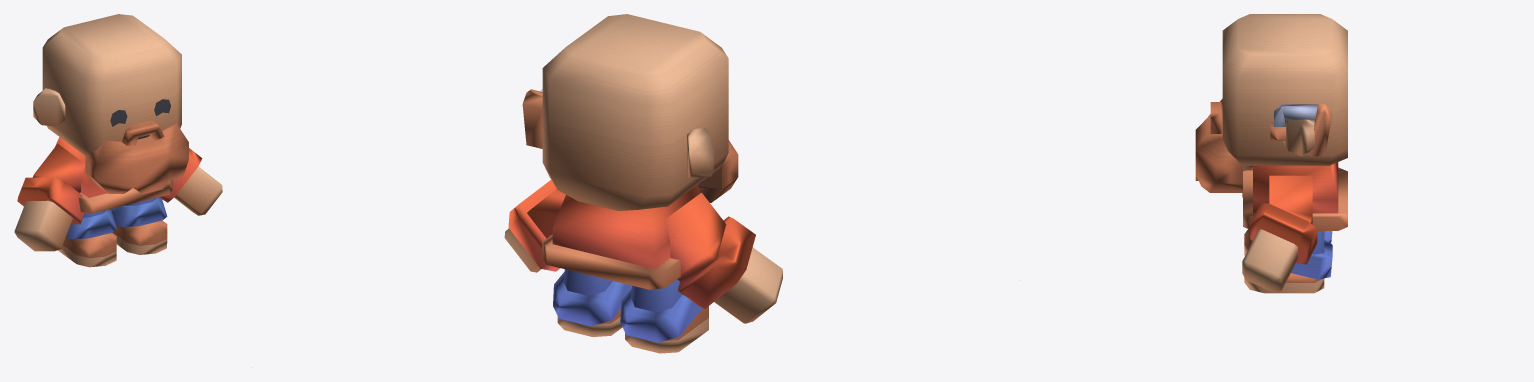
Rendered from rival_sprint_0.glb.
3 renders of one model, left to right at view 1: azimuth 30°, elevation 25°; view 2: azimuth 150°, elevation 25°; view 3: azimuth 270°, elevation 25°, orthographic. The views are drawn at different scales.
Visible parts, largest first — view 1: rival-sprint-0; view 2: rival-sprint-0; view 3: rival-sprint-0.
Part boxes in pixels (x1,y1,x2,y2): rival-sprint-0: (14, 14, 222, 267); rival-sprint-0: (504, 14, 782, 353); rival-sprint-0: (1195, 14, 1347, 293).
Bounding box in the file's own units: 1.2 × 0.6613 × 1.2.
1 material, 1 textured.
